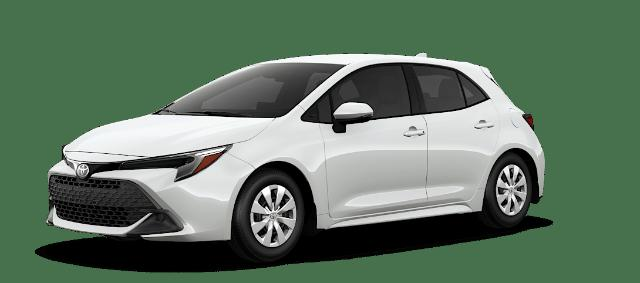toyota: (47, 51, 545, 261)
